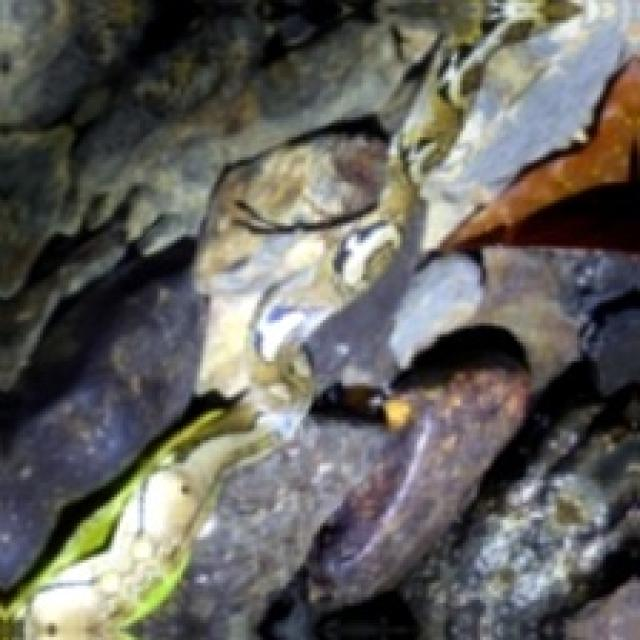reticulated python: (21, 120, 416, 640), (410, 31, 501, 158), (338, 320, 365, 339)
